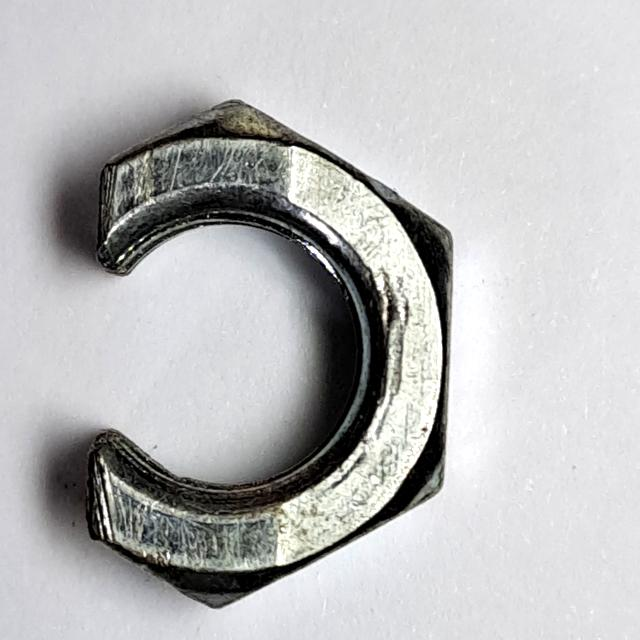Fracture: (70, 87, 464, 621)
